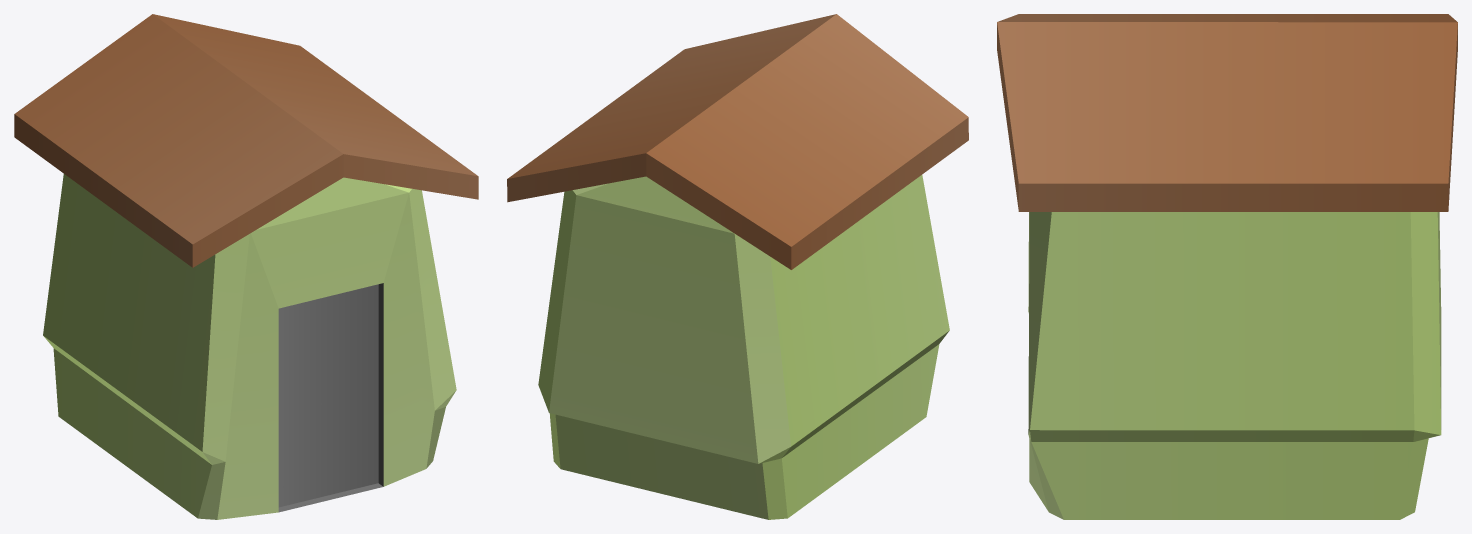
File: Rumah 2.fbx
The picture shows the model from 3 angles, left to right: view 1: azimuth 30°, elevation 25°; view 2: azimuth 150°, elevation 25°; view 3: azimuth 270°, elevation 25°; orthographic projection. The views are drawn at different scales.
Parts seen in each view (by area): view 1: Cube.031, Cube.001; view 2: Cube.031, Cube.001; view 3: Cube.031, Cube.001.
Boxes of the visible parts, box(x1,y1,x2,y2) form: Cube.031: box(43, 174, 456, 519); Cube.001: box(14, 14, 478, 267); Cube.031: box(538, 175, 949, 519); Cube.001: box(507, 14, 968, 269); Cube.031: box(1028, 212, 1441, 519); Cube.001: box(997, 14, 1457, 211).
Size of the model in its own units: 483 by 575 by 560.
